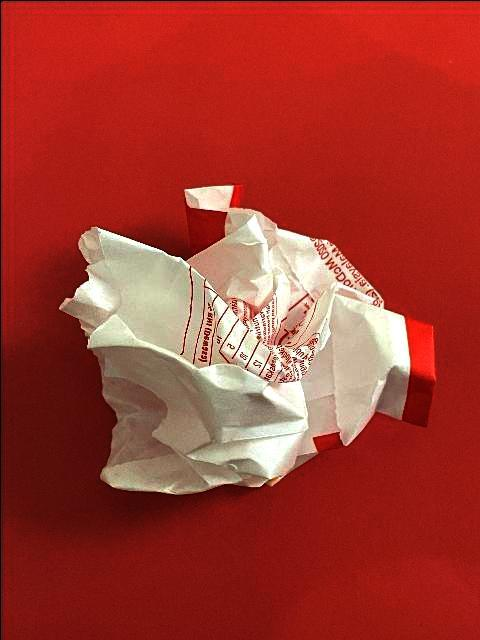paperbag: (56, 178, 438, 498)
